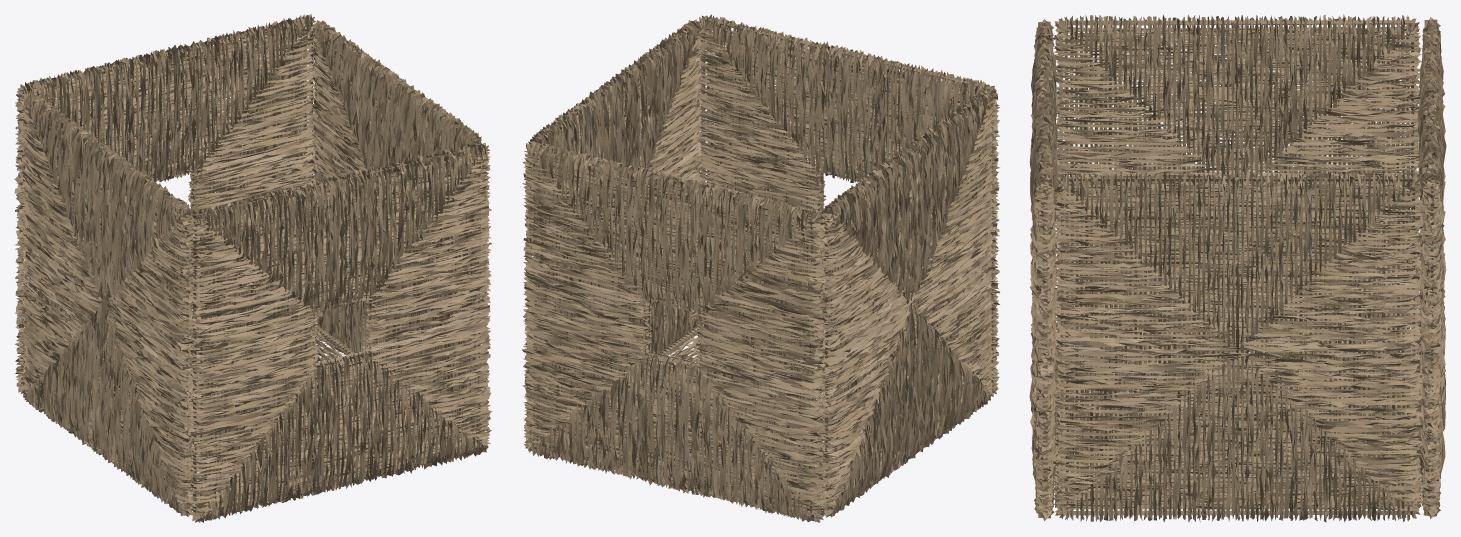
Rendered from LB-BASKET-02.glb.
3 views of the same model, side by side, from view 1: azimuth 30°, elevation 25°; view 2: azimuth 150°, elevation 25°; view 3: azimuth 270°, elevation 25° (orthographic). The views are drawn at different scales.
Parts seen in each view (by area): view 1: 20110540-KNIPSA001; view 2: 20110540-KNIPSA001; view 3: 20110540-KNIPSA001.
Part boxes in pixels (left/top/right/bottom): 20110540-KNIPSA001: left=14, top=14, right=492, bottom=522; 20110540-KNIPSA001: left=522, top=14, right=999, bottom=522; 20110540-KNIPSA001: left=1029, top=14, right=1446, bottom=522.
Size of the model in its own units: 0.3307 by 0.3191 by 0.3431.
Materials: 1 (1 with a texture image).
